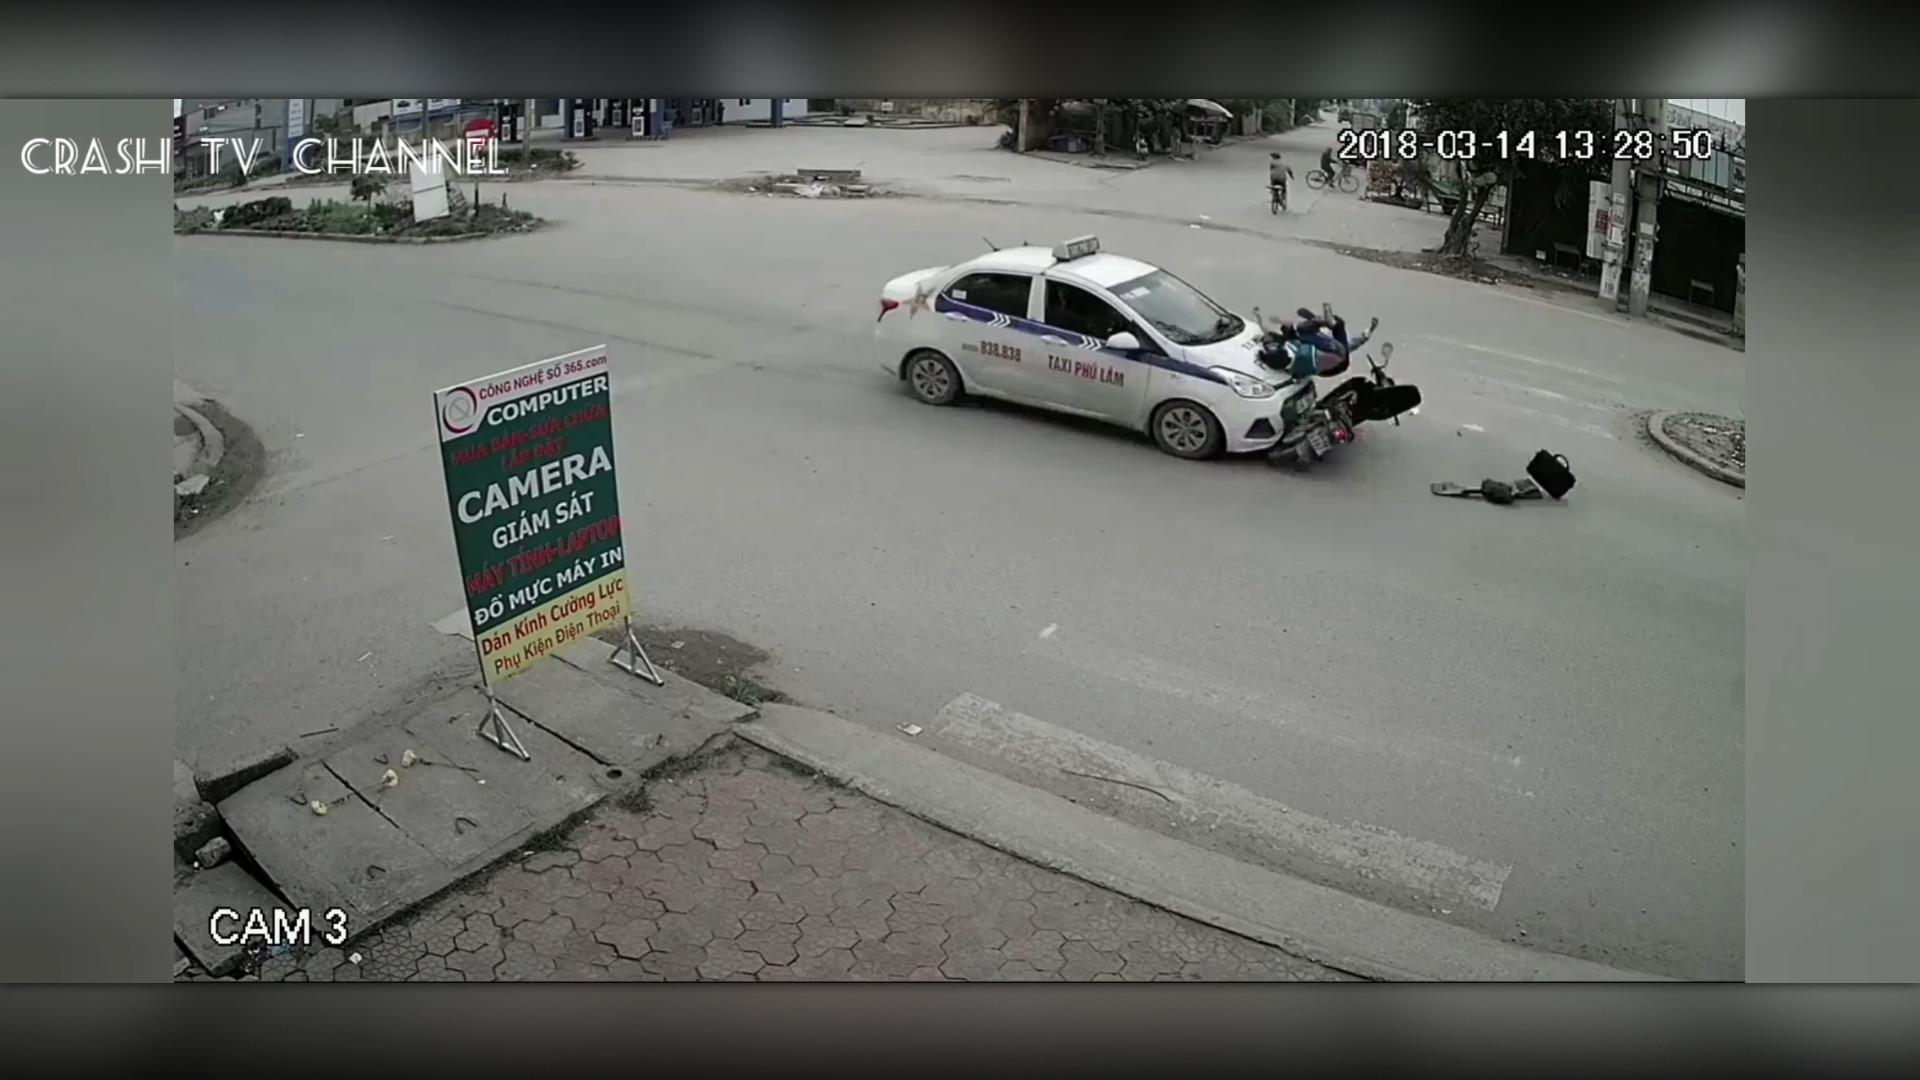accident: (836, 193, 1455, 512), (1246, 290, 1427, 480)
car: (864, 210, 1325, 465)
